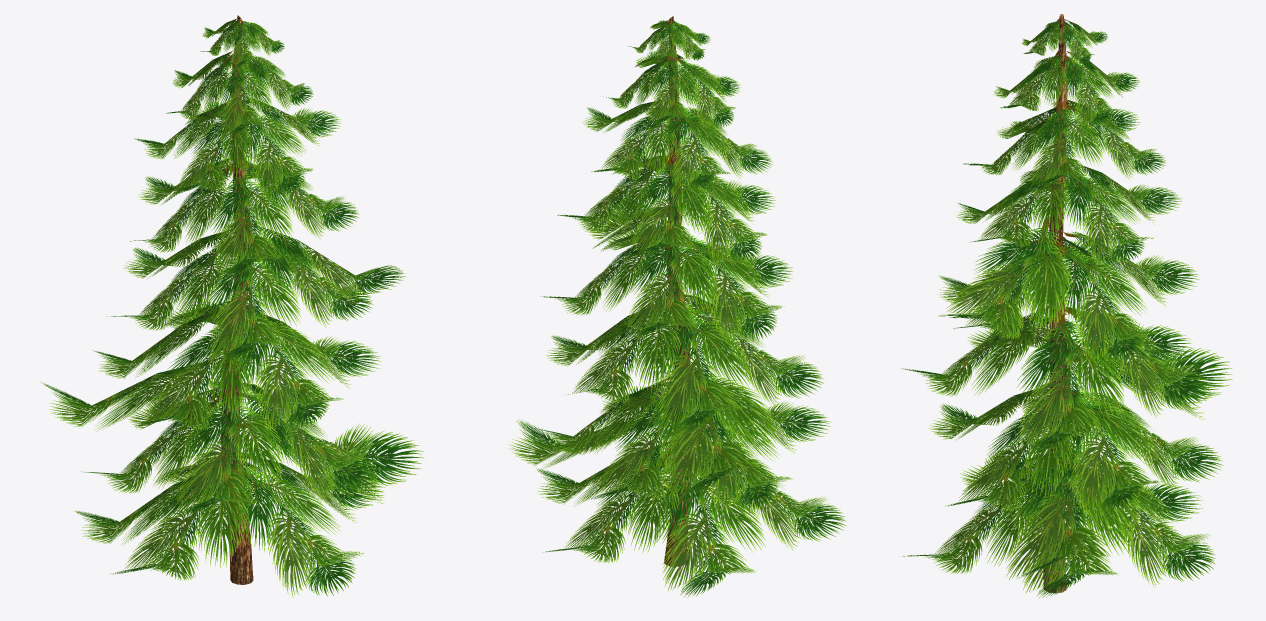
The model's file is Pine model  A (2).glb.
3 views of the same model, side by side, from view 1: azimuth 30°, elevation 25°; view 2: azimuth 150°, elevation 25°; view 3: azimuth 270°, elevation 25° (orthographic). The views are drawn at different scales.
Parts seen in each view (by area): view 1: Pine_5_Pine_Leaves_0, Pine_5_Bark.001_0; view 2: Pine_5_Pine_Leaves_0, Pine_5_Bark.001_0; view 3: Pine_5_Pine_Leaves_0, Pine_5_Bark.001_0.
Boxes of the visible parts, x1,y1,x2,y2 form: Pine_5_Pine_Leaves_0: [41, 18, 424, 597]; Pine_5_Bark.001_0: [220, 15, 253, 584]; Pine_5_Pine_Leaves_0: [509, 19, 846, 597]; Pine_5_Bark.001_0: [664, 16, 689, 566]; Pine_5_Pine_Leaves_0: [899, 19, 1232, 597]; Pine_5_Bark.001_0: [1042, 14, 1068, 593].
Bounding box in the file's own units: 6.8 × 10.31 × 6.04.
Materials: 2 (2 with a texture image).
